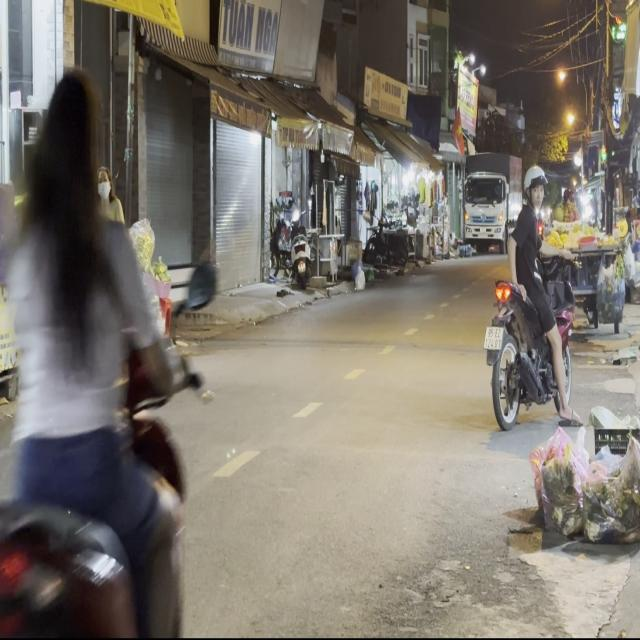helmet: (522, 163, 548, 207)
licenseplate: (0, 61, 205, 634), (482, 161, 580, 430)
motorcyclist: (26, 70, 101, 234)
nohelmet: (483, 326, 503, 348)
